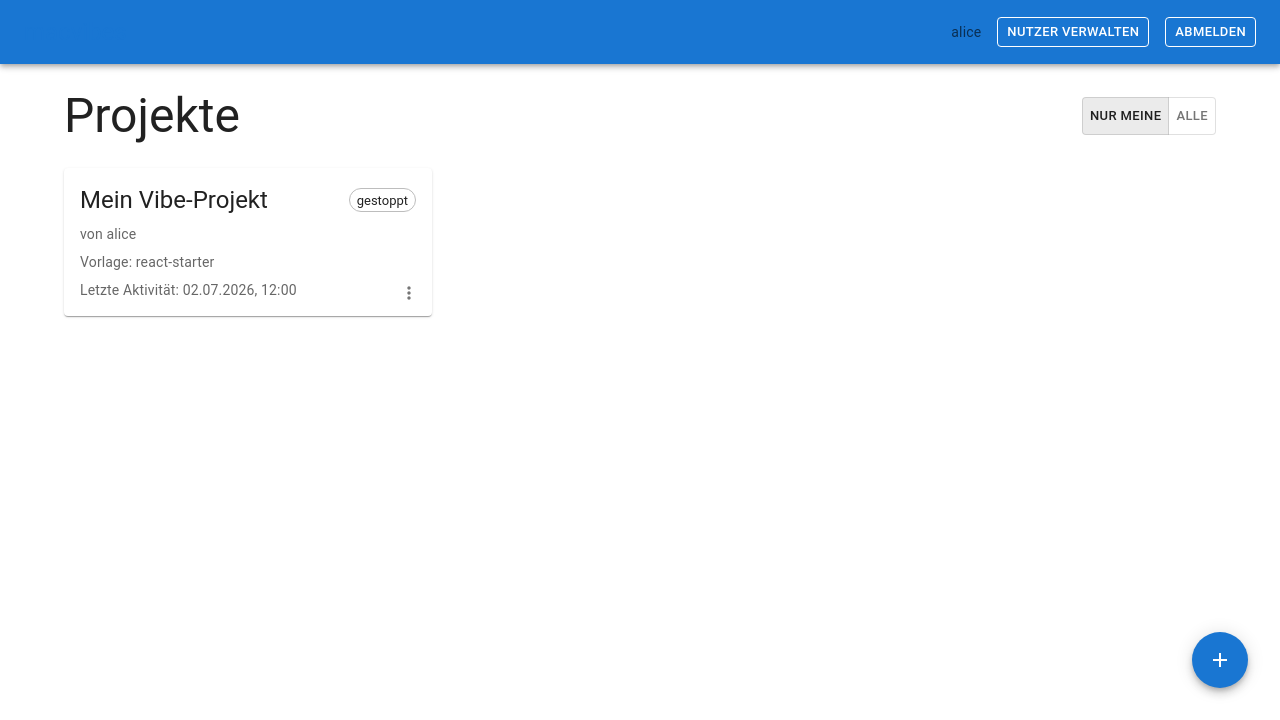
Test: ProjectsPage › Projektmenü (Umbenennen/Löschen) › öffnet über das Menü den Umbenennen-Dialog mit vorgefülltem Namen und benennt um
expect the heading "Mein Vibe-Projekt" is shown: met, box [80,184,268,216]
Click the button with test id "project-menu-p1" at {"x": 409, "y": 293}, box [394,278,424,308]
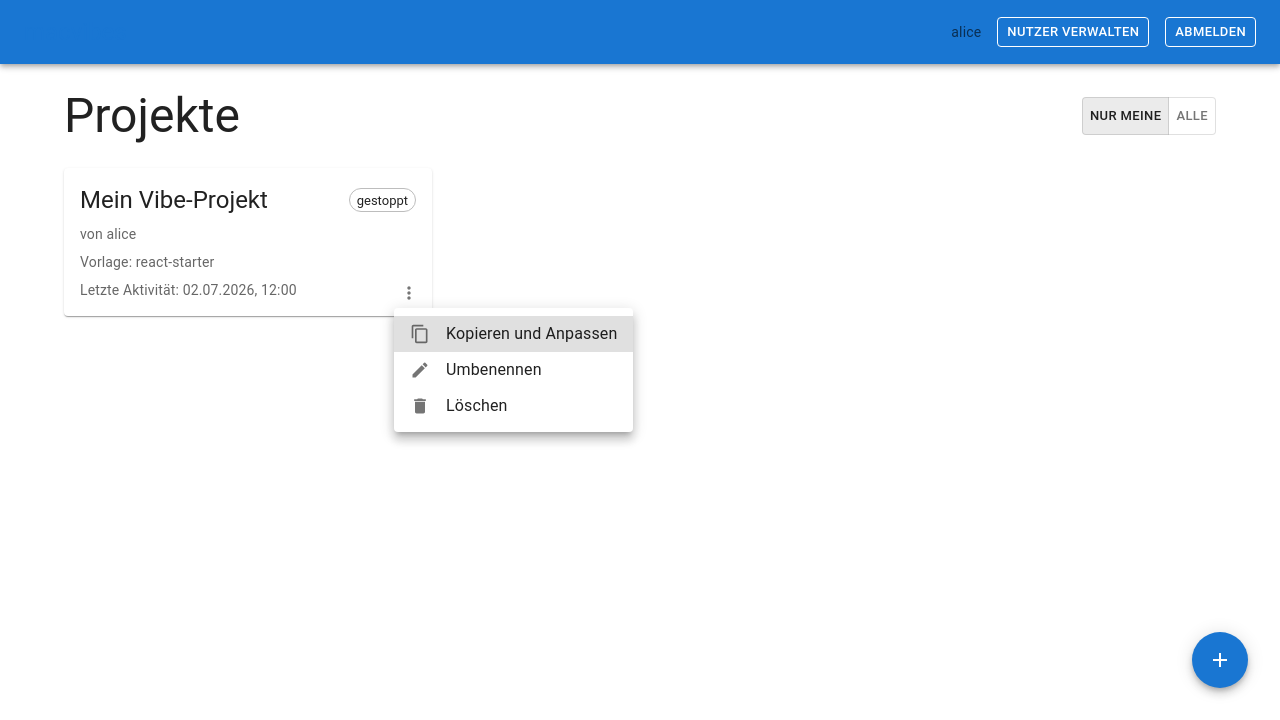
Click the menu item with test id "project-rename-p1" at {"x": 476, "y": 370}, box [410,360,542,380]
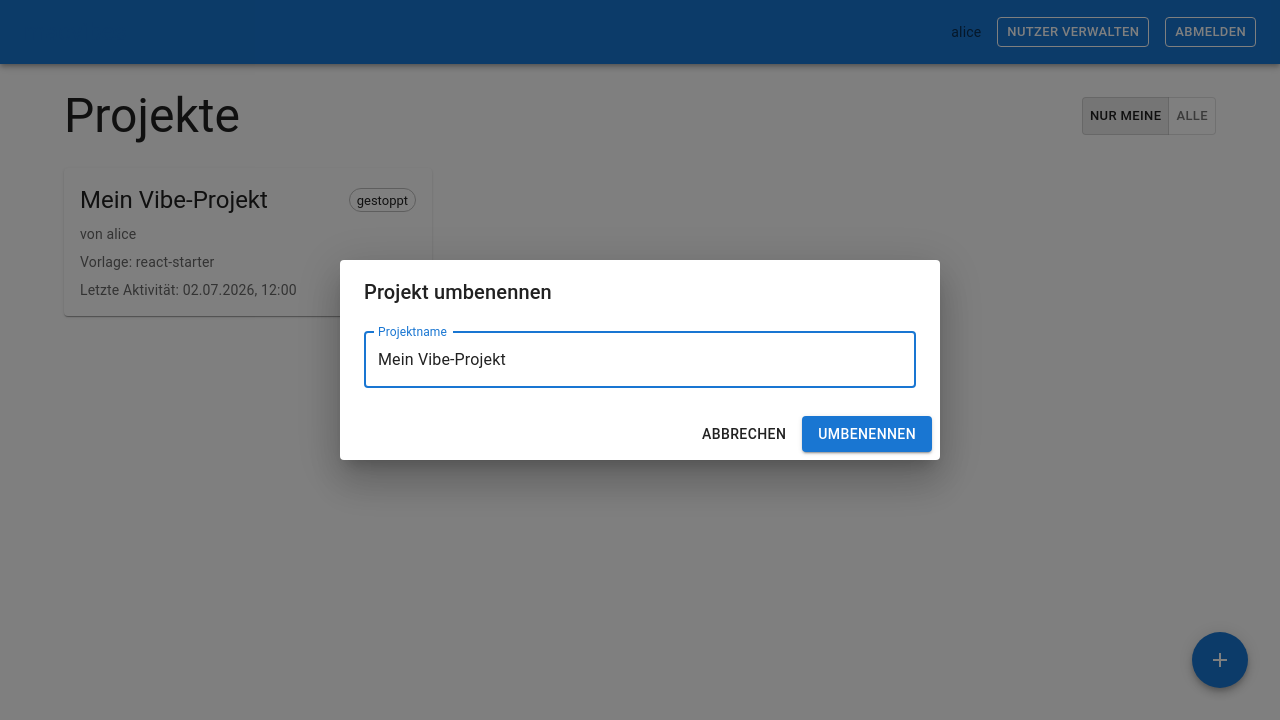
expect the field with test id "rename-project-name" is shown: met
expect the field with test id "rename-project-name" holds "Mein Vibe-Projekt": met
Replace the text in the field with test id "rename-project-name" with "Umbenannt" at {"x": 640, "y": 360}, box [364,332,916,388]
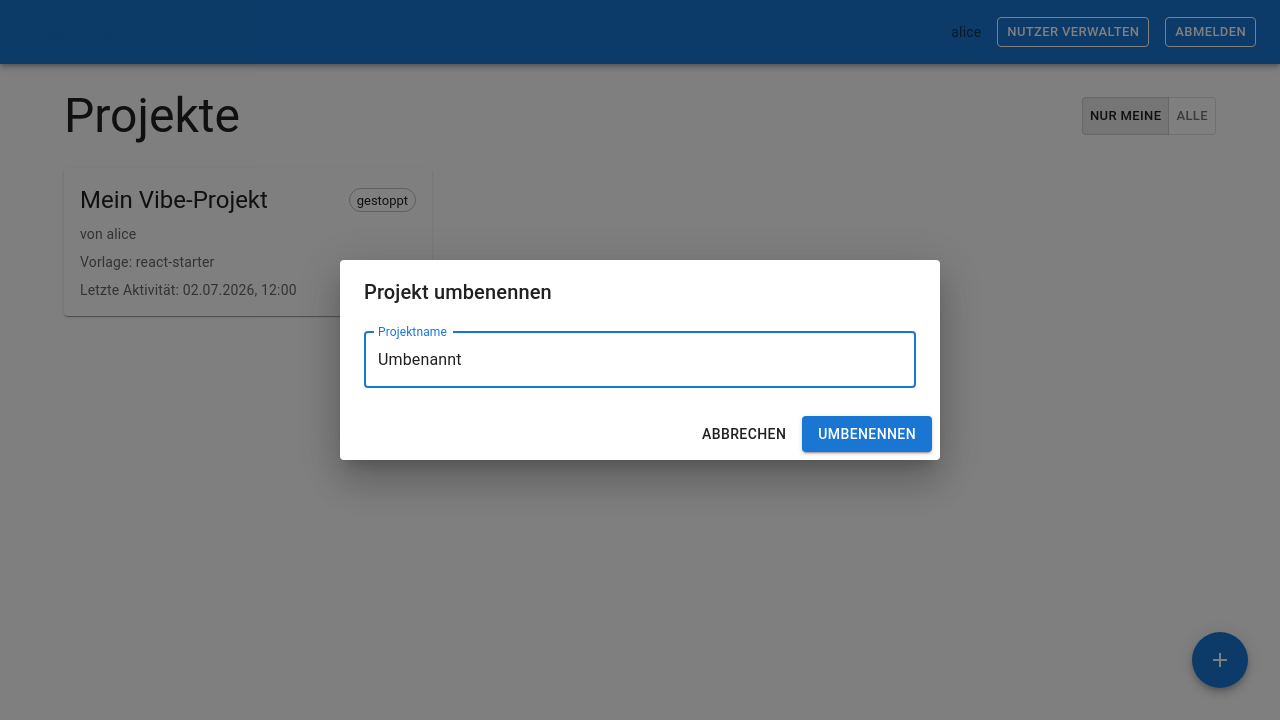
Click the button with test id "rename-confirm" at {"x": 867, "y": 434}, box [802,416,932,452]
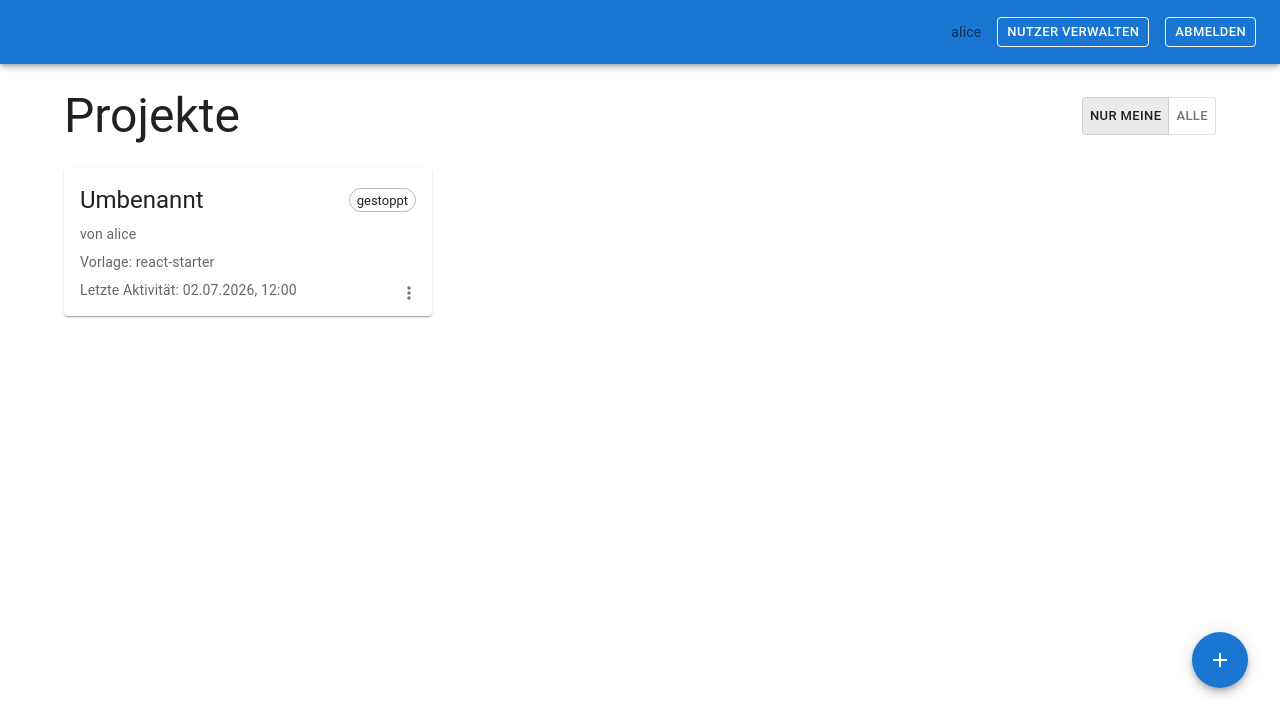
expect the heading "Umbenannt" is shown: met, box [80,184,204,216]
